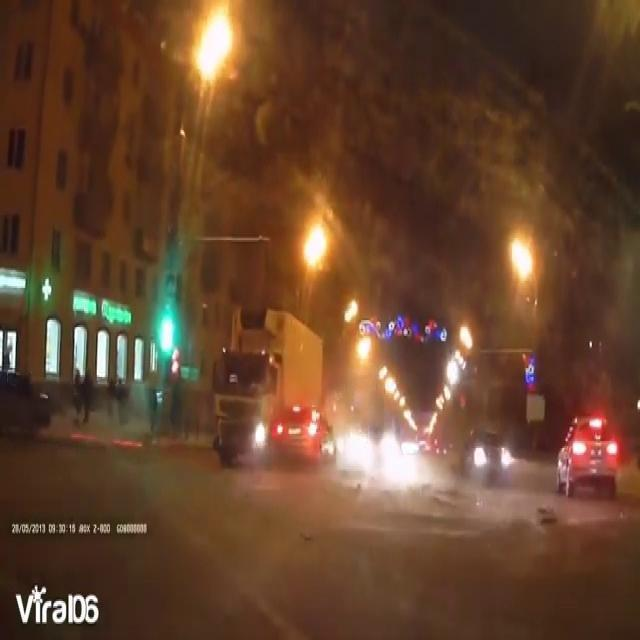low-cars-accident: (213, 298, 324, 465)
